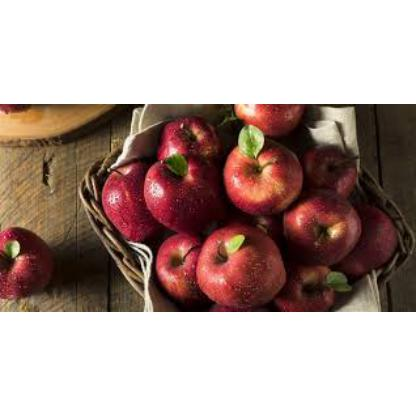apple: (208, 220, 286, 306), (221, 142, 302, 220), (149, 157, 227, 231), (288, 190, 362, 262), (335, 200, 405, 270), (1, 224, 59, 304), (152, 232, 218, 302), (154, 115, 230, 175), (104, 164, 165, 238), (274, 257, 346, 310), (231, 107, 306, 138)
